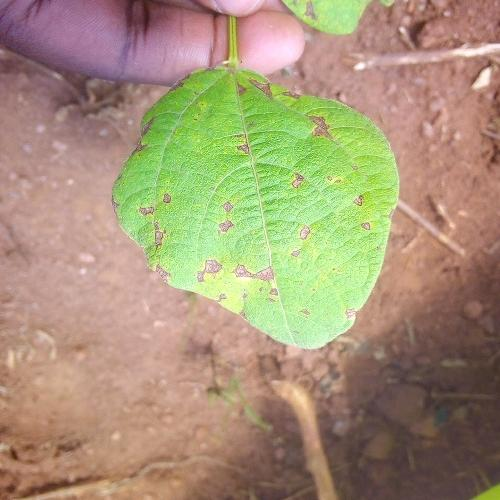hawar: (181, 248, 300, 302), (126, 177, 180, 263), (291, 111, 338, 193), (196, 182, 246, 240), (346, 173, 384, 236), (234, 74, 314, 102)
